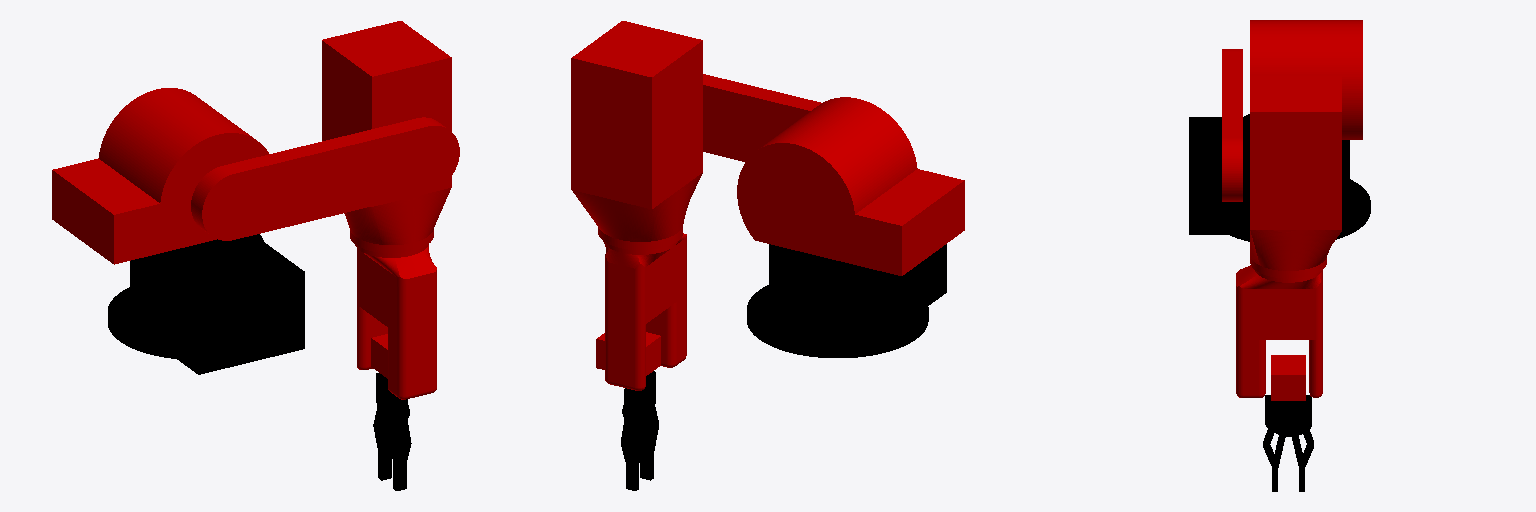
The robot description file, URDF, robot "fred":
<?xml version="1.0" encoding="utf-8"?>

<robot name="fred" xmlns:xacro="http://www.ros.org/wiki/xacro">
  <!-- right is either 1 (for right arm) or -1 (for left arm) -->
  <material name="black">
    <color rgba="0 0 0 1"/>
  </material>
  <material name="white">
    <color rgba="1 1 1 1"/>
  </material>
  <material name="red">
    <color rgba="0.8 0 0 1"/>
  </material>
  <material name="yellow">
    <color rgba="1 1 0 1"/>
  </material>

  <link name="base_link">
    <inertial>
      <origin rpy="0 0 0" xyz="0 0 0"/>
      <mass value=".0"/>
      <inertia ixx="0" ixy="0" ixz="0" iyy="0" iyz="0" izz="0"/>
    </inertial>
    <visual>
      <origin rpy="0 0 0" xyz="0 0 0"/>
      <geometry>
        <mesh filename="meshes/base.stl" scale="0.001 0.001 0.001"/>
      </geometry>
      <material name="black"/>
    </visual>
  </link>
  <link name="base_plate">
    <inertial>
      <mass value="0.05"/>
      <origin rpy="0 0 0" xyz="0 0 0.1395"/>
      <inertia ixx="1-05" ixy="0" ixz="0" iyy="1e-05" iyz="0" izz="1e-05"/>
    </inertial>
    <visual>
      <origin rpy="0 0 0" xyz="0 0 0"/>
      <geometry>
        <mesh filename="meshes/joint2.stl" scale="0.001 0.001 0.001"/>
      </geometry>
      <material name="red"/>
    </visual>
  </link>
  <joint name="base_to_base_plate" type="revolute">
    <limit effort="1000.0" lower="0.0" upper="3.14159265359" velocity="10"/>
    <parent link="base_link"/>
    <child link="base_plate"/>
    <origin rpy="0 0 -1.57079632679" xyz="0 0 0.1395"/>
    <axis xyz="0 0 1"/>
  </joint>

  <link name="arm_lower">
    <inertial>
      <mass value="0.2"/>
      <origin rpy="0 0 0" xyz="0 0.09 0.0"/>
      <inertia ixx="0.0006" ixy="0" ixz="0" iyy="0.00012" iyz="0" izz="0.0006"/>
    </inertial>
    <visual>
      <origin rpy="0 0 0" xyz="0 0 0"/>
      <geometry>
        <mesh filename="meshes/arm.stl" scale="0.001 0.001 0.001"/>
      </geometry>
      <material name="red"/>
    </visual>
    <collision>
      <origin rpy="0 0 0" xyz="0 0 0"/>
      <geometry>
        <mesh filename="meshes/arm.stl" scale="0.001 0.001 0.001"/>
      </geometry>
    </collision>
  </link>
  <joint name="base_plate_to_arm_lower" type="revolute">
    <limit effort="1000.0" lower="0.0" upper="3.14159265359" velocity="10"/>
    <parent link="base_plate"/>
    <child link="arm_lower"/>
    <origin rpy="-1.57079632679 0 0" xyz="0.04 0 0"/>
    <axis xyz="1 0 0"/>
  </joint>

  <link name="arm_upper">
    <inertial>
      <mass value="0.3"/>
      <origin rpy="0 0 0" xyz="0.0 0.03 -0.01"/>
      <inertia ixx="0.00045" ixy="0" ixz="0" iyy="0.00013" iyz="0" izz="0.0004"/>
    </inertial>
    <visual>
      <origin rpy="0 0 0" xyz="0 0 0"/>
      <geometry>
        <mesh filename="meshes/joint3.stl" scale="0.001 0.001 0.001"/>
      </geometry>
      <material name="red"/>
    </visual>
    <collision>
      <origin rpy="0 0 0" xyz="0 0 0"/>
      <geometry>
        <mesh filename="meshes/joint3.stl" scale="0.001 0.001 0.001"/>
      </geometry>
    </collision>
  </link>
  <joint name="arm_lower_to_arm_upper" type="revolute">
    <limit effort="1000.0" lower="-1.57079632679" upper="3.14159265359" velocity="10"/>
    <parent link="arm_lower"/>
    <child link="arm_upper"/>
    <origin rpy="0 0 0" xyz="-0.04 0 0.2"/>
    <axis xyz="1 0 0"/>
  </joint>

  <link name="wrist">
    <inertial>
      <mass value="0.1"/>
      <origin rpy="0 0 0" xyz="0 0 0.0"/>
      <inertia ixx="0.000133333333333" ixy="0" ixz="0" iyy="5.41666666667e-05" iyz="0" izz="0.000160833333333"/>
    </inertial>
    <visual>
      <origin rpy="0 0 0" xyz="0 0 0"/>
      <geometry>
        <mesh filename="meshes/joint4.stl" scale="0.001 0.001 0.001"/>
      </geometry>
      <material name="red"/>
    </visual>
    <collision>
      <origin rpy="0 0 0" xyz="0 0 0"/>
      <geometry>
        <mesh filename="meshes/joint4.stl" scale="0.001 0.001 0.001"/>
      </geometry>
    </collision>
  </link>
  <joint name="arm_upper_to_wrist" type="continuous">
    <parent link="arm_upper"/>
    <child link="wrist"/>
    <origin xyz="0 0.101 0"/>
    <axis xyz="0 1 0"/>
  </joint>

  <link name="wrist_servo">
    <inertial>
      <mass value="0.04"/>
      <origin rpy="0 0 0" xyz="0.0 0.0 0.0"/>
      <inertia ixx="0.00030675" ixy="0" ixz="0" iyy="9.75e-06" iyz="0" izz="0.000303"/>
    </inertial>
    <visual>
      <origin rpy="0 0 1.57079632679" xyz="0 0 0"/>
      <geometry>
        <mesh filename="meshes/gripper_servo.stl" scale="0.001 0.001 0.001"/>
      </geometry>
      <material name="red"/>
    </visual>
    <collision>
      <origin rpy="0 0 0" xyz="0 0 0"/>
      <geometry>
        <mesh filename="meshes/gripper_servo.stl" scale="0.001 0.001 0.001"/>
      </geometry>
    </collision>
  </link>
  <joint name="wrist_to_wrist_servo" type="continuous">
    <parent link="wrist"/>
    <child link="wrist_servo"/>
    <origin xyz="0 0.119 0"/>
    <axis xyz="1 0 0"/>
  </joint>

  <link name="gripper">
    <inertial>
      <mass value="0.01"/>
      <origin rpy="0 0 0" xyz="0 0 0"/>
      <inertia ixx="5.4375e-06" ixy="0" ixz="0" iyy="3.75e-06" iyz="0" izz="7.6875e-06"/>
    </inertial>
    <visual>
      <origin rpy="0 0 0" xyz="0 0 0"/>
      <geometry>
        <mesh filename="meshes/gripper.stl" scale="0.001 0.001 0.001"/>
      </geometry>
      <material name="black"/>
    </visual>
    <collision>
      <origin rpy="0 0 0" xyz="0 0 0"/>
      <geometry>
        <mesh filename="meshes/gripper.stl" scale="0.001 0.001 0.001"/>
      </geometry>
    </collision>
  </link>
  <joint name="wrist_servo_to_gripper" type="continuous">
    <parent link="wrist_servo"/>
    <child link="gripper"/>
    <origin xyz="0 0.017 0"/>
    <axis xyz="0 1 0"/>
  </joint>
</robot>

--- Facts derived from the render (not from the file) ---
The picture shows the robot from 3 angles, left to right: view 1: azimuth 30°, elevation 25°; view 2: azimuth 150°, elevation 25°; view 3: azimuth 270°, elevation 25°; orthographic projection.
Model fred with 7 links and 6 joints (3 revolute, 3 continuous), rooted at base_link, posed all joints at 0.
Visible links, largest first — view 1: base_plate, base_link, arm_lower, arm_upper, wrist, gripper, wrist_servo; view 2: base_plate, arm_upper, base_link, wrist, arm_lower, gripper, wrist_servo; view 3: arm_upper, wrist, base_plate, base_link, arm_lower, gripper, wrist_servo.
Link boxes in pixels (x1=…): base_plate: x1=52, y1=88, x2=268, y2=264; base_link: x1=108, y1=234, x2=304, y2=374; arm_lower: x1=191, y1=117, x2=459, y2=240; arm_upper: x1=322, y1=21, x2=451, y2=252; wrist: x1=355, y1=244, x2=436, y2=399; gripper: x1=373, y1=373, x2=411, y2=490; wrist_servo: x1=371, y1=334, x2=387, y2=378; base_plate: x1=737, y1=97, x2=964, y2=275; arm_upper: x1=571, y1=21, x2=702, y2=249; base_link: x1=747, y1=244, x2=946, y2=357; wrist: x1=603, y1=233, x2=686, y2=390; arm_lower: x1=703, y1=74, x2=821, y2=161; gripper: x1=621, y1=371, x2=658, y2=490; wrist_servo: x1=596, y1=332, x2=660, y2=375; arm_upper: x1=1250, y1=76, x2=1341, y2=278; wrist: x1=1236, y1=265, x2=1322, y2=397; base_plate: x1=1250, y1=20, x2=1362, y2=139; base_link: x1=1189, y1=114, x2=1370, y2=241; arm_lower: x1=1222, y1=49, x2=1242, y2=201; gripper: x1=1263, y1=395, x2=1313, y2=491; wrist_servo: x1=1271, y1=355, x2=1305, y2=400.
Bounding box of the posed robot: 0.3473 × 0.1769 × 0.425 m (x, y, z).
Meshes: 7 distinct files referenced, 7 mesh visuals loaded (7 binary STL).
